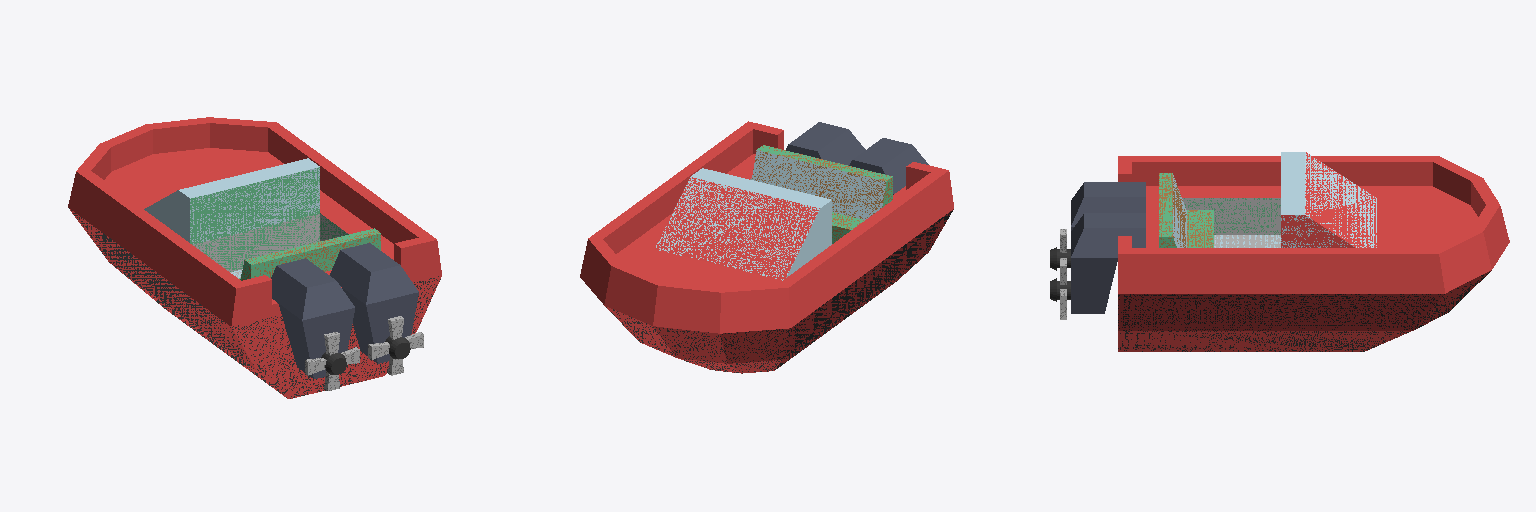
File: boat_013.obj
3 views of the same model, side by side, from view 1: azimuth 30°, elevation 25°; view 2: azimuth 150°, elevation 25°; view 3: azimuth 270°, elevation 25° (orthographic).
Visible parts, largest first — view 1: boat_013, Group; view 2: boat_013, Group; view 3: boat_013, Group.
Boxes of the visible parts, x1,y1,x2,y2 form: boat_013: [68, 117, 441, 398]; Group: [271, 243, 423, 390]; boat_013: [580, 121, 953, 373]; Group: [786, 122, 928, 194]; boat_013: [1118, 152, 1509, 351]; Group: [1050, 182, 1145, 319].
Size of the model in its own units: 1.78 by 1.17 by 3.37.